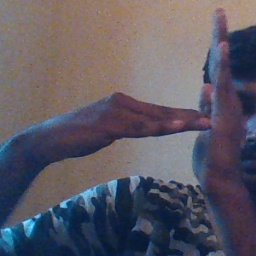Z: (135, 6, 243, 184)
